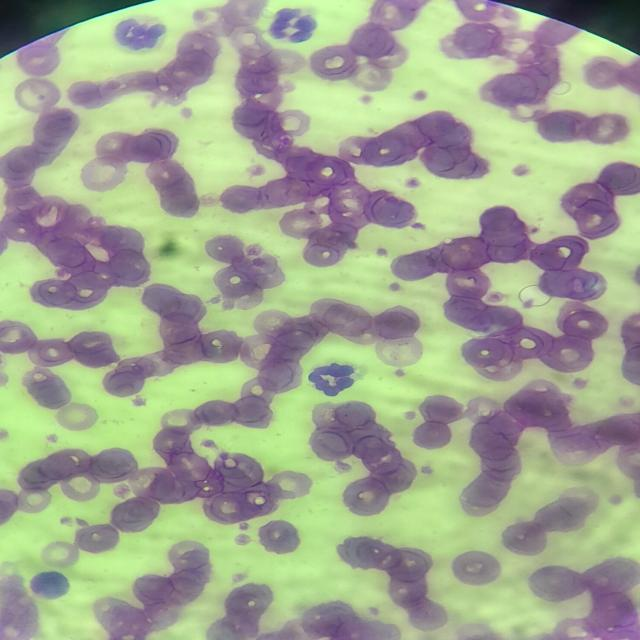Neutrofilo: (298, 354, 367, 399), (109, 11, 170, 56)
